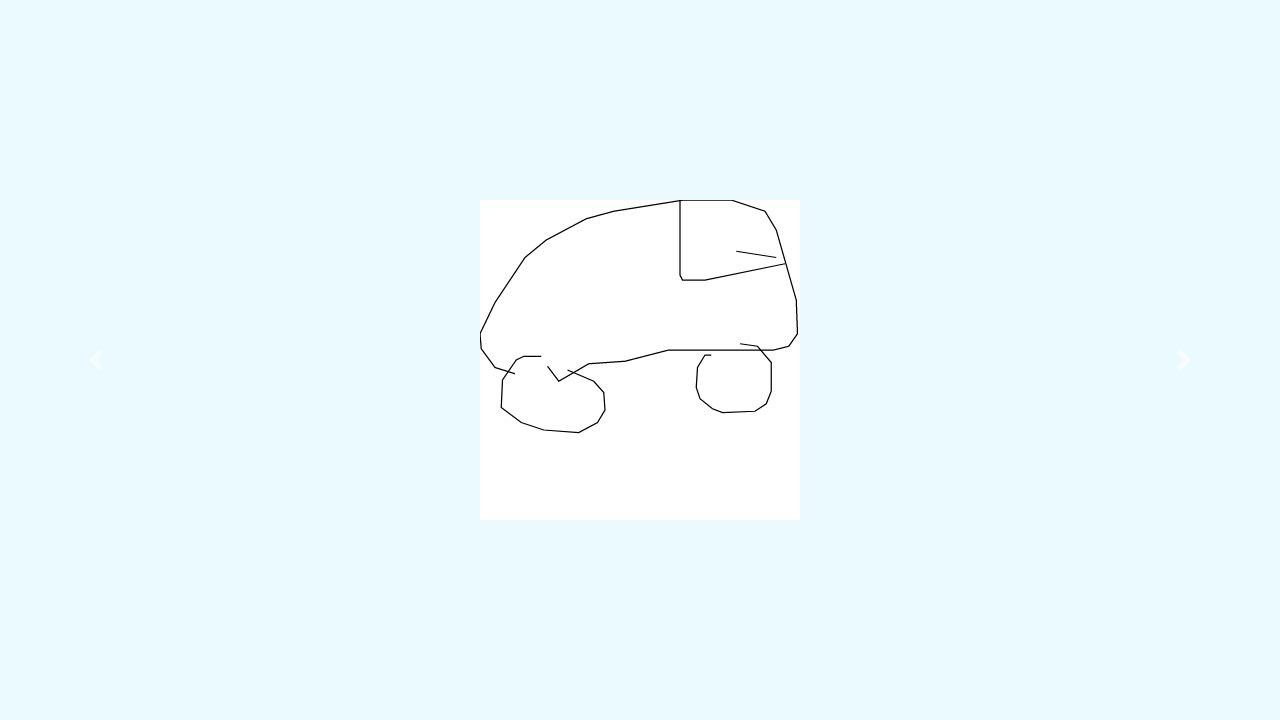car: (478, 194, 805, 436)
